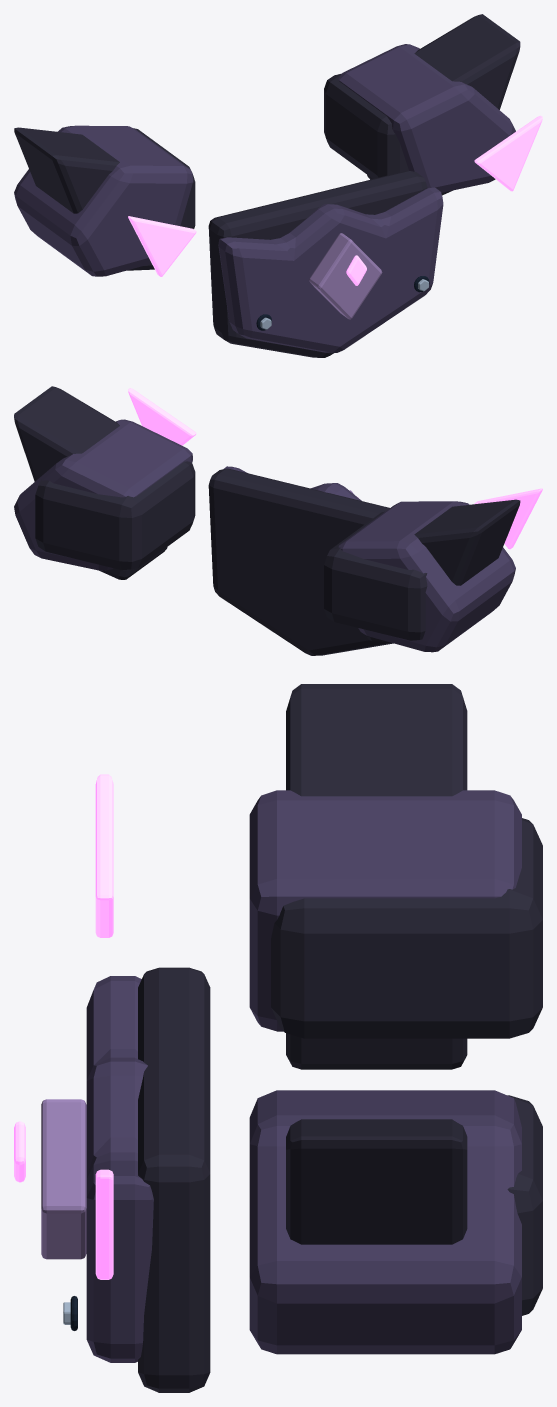
The model's file is mirage_mantle.glb.
The picture shows the model from 3 angles, top to bottom: view 1: azimuth 30°, elevation 25°; view 2: azimuth 150°, elevation 25°; view 3: azimuth 270°, elevation 25°; orthographic projection. The views are drawn at different scales.
Visible parts, largest first — view 1: ModuleArmor; view 2: ModuleArmor; view 3: ModuleArmor.
Part boxes in pixels (<box>): ModuleArmor: <box>14,14,542,357</box>; ModuleArmor: <box>14,386,542,655</box>; ModuleArmor: <box>14,684,542,1392</box>.
Size of the model in its own units: 1.78 by 0.8452 by 0.875.
